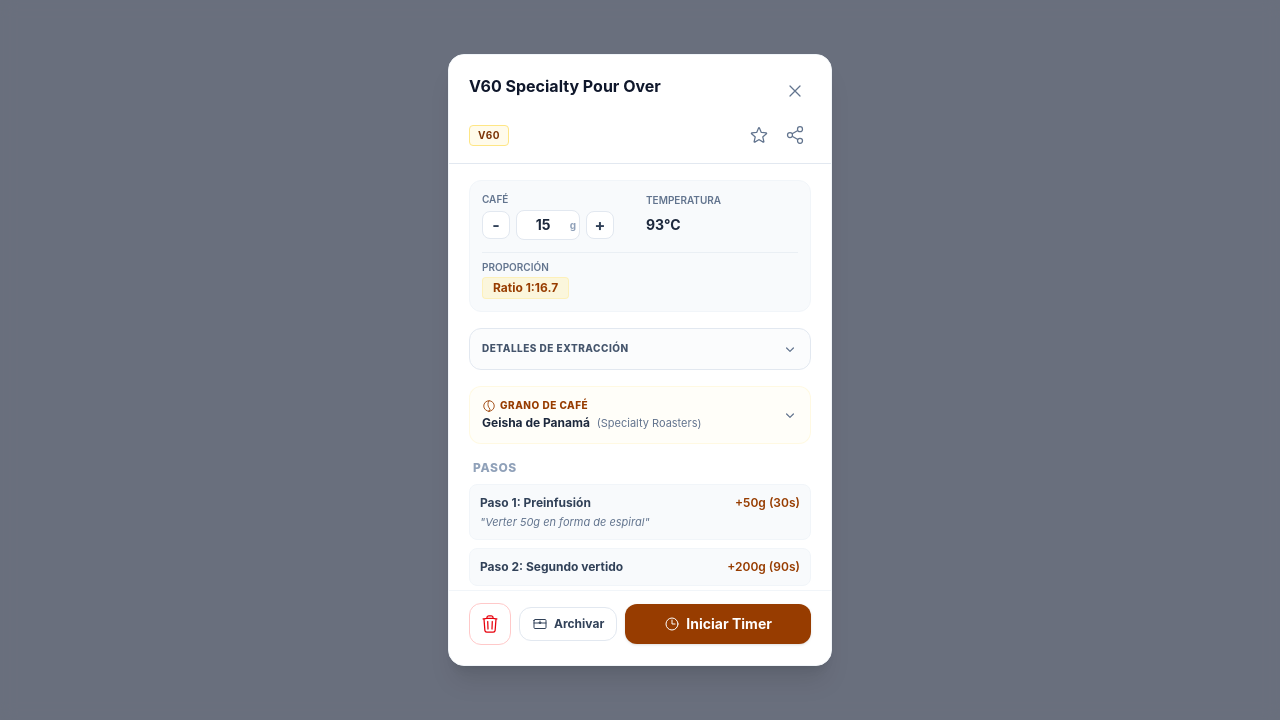
Test: RecipeSummaryModal Component Tests › renders linked bean info and toggles expanded technical details
The image size is (1280, 720).
Expected: the text "Geisha de Panamá (Specialty Roasters)" is shown, [482, 415, 702, 431]
Expected: the text "(Specialty Roasters)" is shown, [597, 416, 702, 430]
# Toggle expand button
Click the button "Grano de Café Geisha de Panamá (Specialty Roasters)" at (640, 415), box [470, 387, 810, 443]
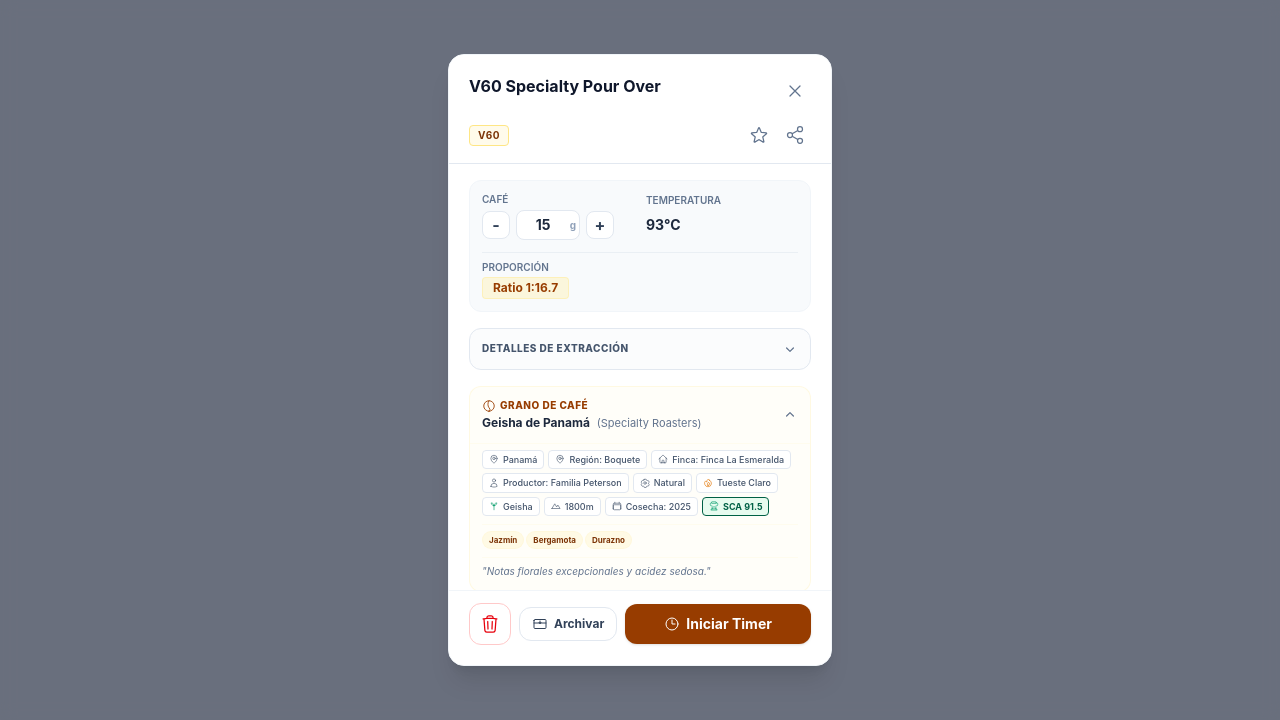
Result: the text "Región: Boquete" is shown at [548, 450, 647, 469]
Result: the text "Finca: Finca La Esmeralda" is shown at [651, 450, 791, 469]
Result: the text "Productor: Familia Peterson" is shown at [482, 473, 629, 493]
# Toggle collapse
Click the button "Grano de Café Geisha de Panamá (Specialty Roasters)" at (640, 415), box [470, 387, 810, 443]
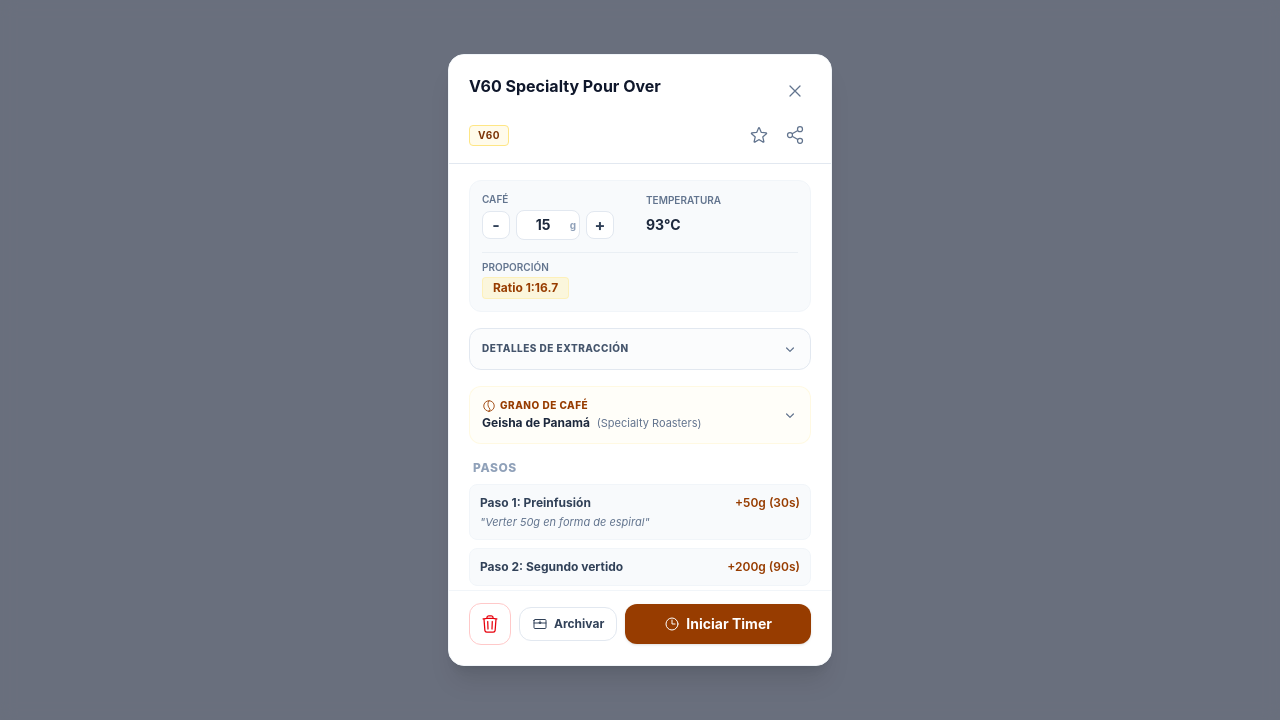
Result: the text "Finca La Esmeralda" is gone
